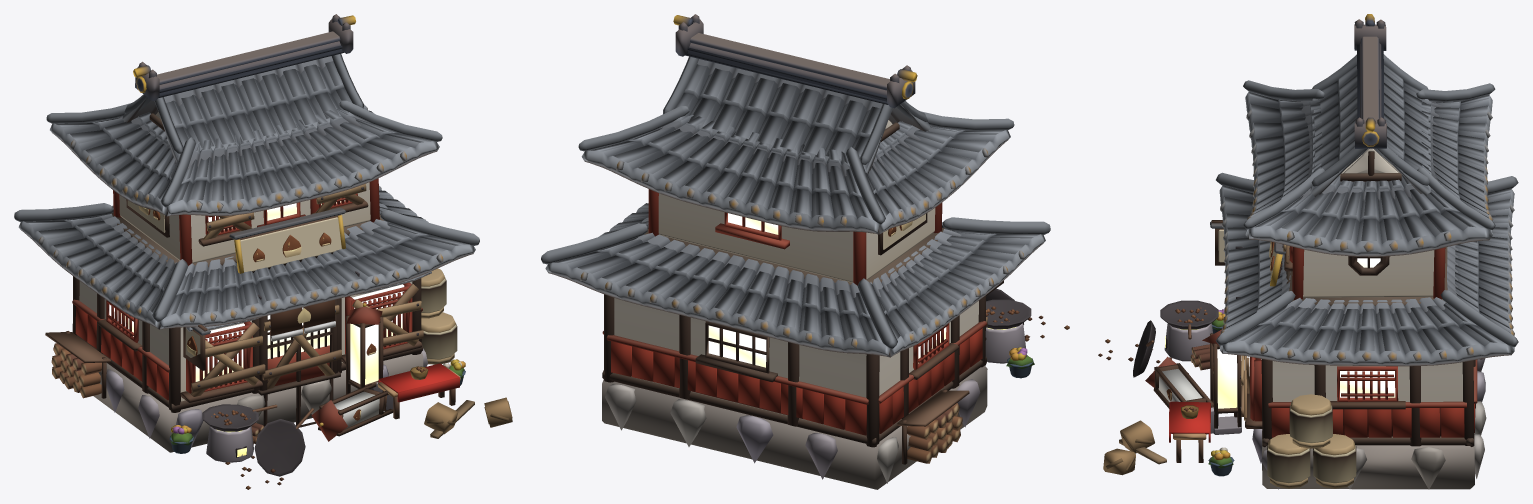
Rendered from zv-maple-inn.glb.
3 views of the same model, side by side, from view 1: azimuth 30°, elevation 25°; view 2: azimuth 150°, elevation 25°; view 3: azimuth 270°, elevation 25° (orthographic). The views are drawn at different scales.
Parts seen in each view (by area): view 1: inn, siege, saved, window_glow; view 2: inn, window_glow, saved; view 3: inn, saved, siege, window_glow.
Part boxes in pixels (bbox=[...]): inn: bbox=[14, 14, 479, 462]; siege: bbox=[190, 183, 512, 489]; saved: bbox=[169, 300, 465, 456]; window_glow: bbox=[109, 200, 404, 381]; inn: bbox=[541, 14, 1050, 489]; window_glow: bbox=[708, 213, 946, 367]; saved: bbox=[986, 299, 1034, 378]; inn: bbox=[1164, 14, 1518, 489]; saved: bbox=[1160, 300, 1241, 476]; siege: bbox=[1098, 244, 1289, 475]; window_glow: bbox=[1261, 258, 1395, 397].
Size of the model in its own units: 5.03 by 5 by 5.3.
